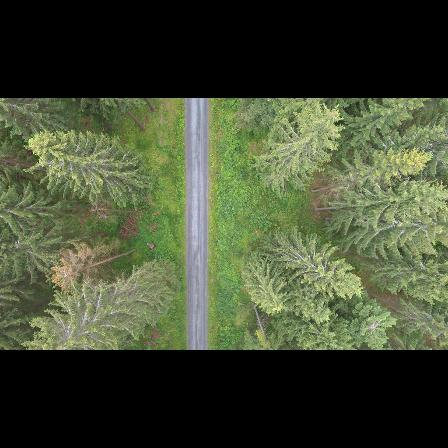Sick: (359, 313, 390, 344)
